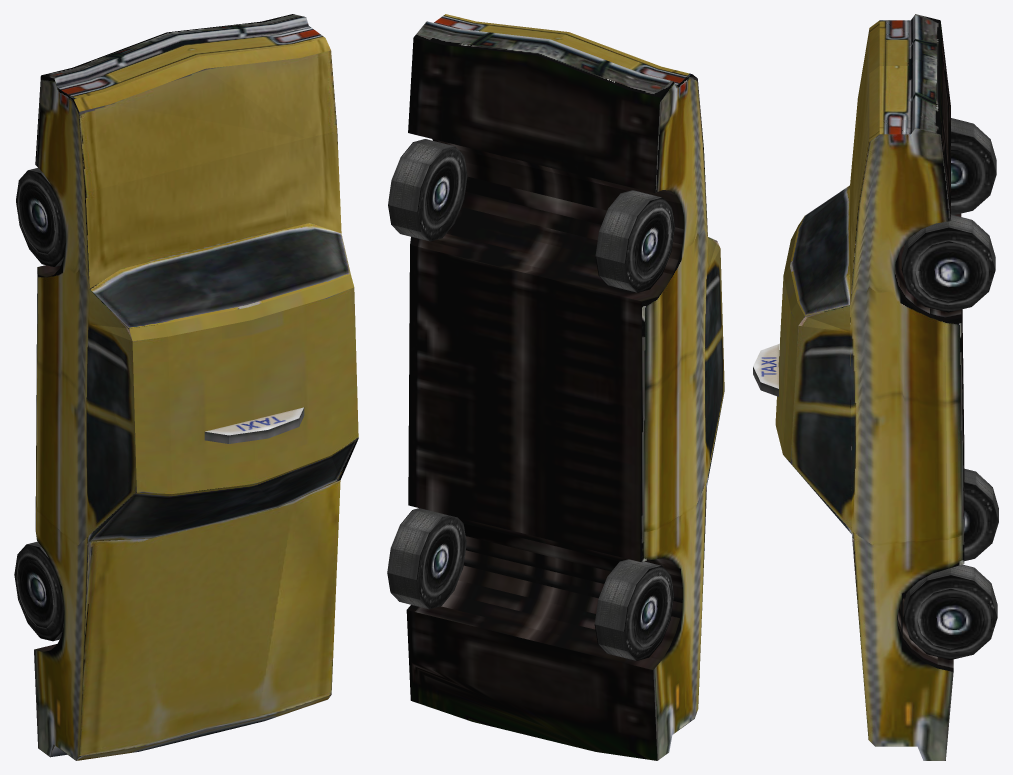
File: carpack_taxi_wtf.obj
3 renders of one model, left to right at view 1: azimuth 30°, elevation 25°; view 2: azimuth 150°, elevation 25°; view 3: azimuth 270°, elevation 25°, orthographic. The views are drawn at different scales.
Parts seen in each view (by area): view 1: group2; view 2: group2; view 3: group2.
Boxes of the visible parts, bbox=[...] form: group2: bbox=[14, 14, 358, 760]; group2: bbox=[387, 14, 724, 760]; group2: bbox=[753, 14, 998, 760].
Bounding box in the file's own units: 248 × 660 × 226.
